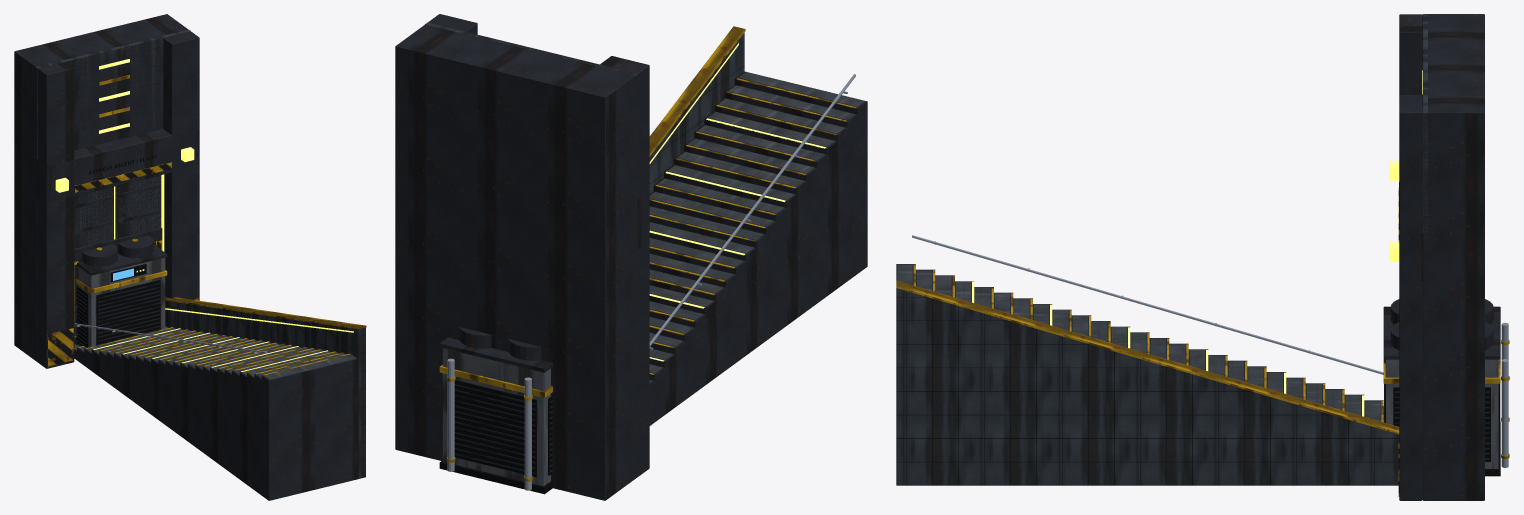
Rendered from end2-floor2-kit.glb.
3 views of the same model, side by side, from view 1: azimuth 30°, elevation 25°; view 2: azimuth 150°, elevation 25°; view 3: azimuth 270°, elevation 25° (orthographic). The views are drawn at different scales.
Visible parts, largest first — view 1: p_shaft__b_gun, p_stairs__b_gun, p_stairs__b_wall, p_stairs__b_raised, p_cooler__b_gun, p_stairs__b_yellow, p_cooler__b_dark, p_shaft__b_wall, p_cooler__b_steel, p_shaft__b_hazard, p_shaft__b_steel, p_stairs__b_glow_y (+5 smaller); view 2: p_shaft__b_gun, p_stairs__b_gun, p_stairs__b_raised, p_cooler__b_dark, p_stairs__b_yellow, p_cooler__b_gun, p_cooler__b_steel, p_stairs__b_wall, p_cooler__b_trim, p_stairs__b_glow_y, p_stairs__b_trim, p_cooler__b_yellow (+1 smaller); view 3: p_stairs__b_wall, p_shaft__b_gun, p_stairs__b_raised, p_stairs__b_yellow, p_cooler__b_gun, p_stairs__b_gun, p_cooler__b_steel, p_stairs__b_trim, p_shaft__b_wall, p_cooler__b_trim, p_cooler__b_dark.
Part boxes in pixels (left/top/right/bottom): p_shaft__b_gun: left=14, top=14, right=199, bottom=368; p_stairs__b_gun: left=74, top=326, right=358, bottom=500; p_stairs__b_wall: left=165, top=300, right=365, bottom=478; p_stairs__b_raised: left=74, top=327, right=356, bottom=379; p_cooler__b_gun: left=76, top=235, right=167, bottom=347; p_stairs__b_yellow: left=74, top=297, right=366, bottom=375; p_cooler__b_dark: left=76, top=264, right=160, bottom=347; p_shaft__b_wall: left=35, top=29, right=190, bottom=158; p_cooler__b_steel: left=78, top=257, right=165, bottom=347; p_shaft__b_hazard: left=47, top=162, right=198, bottom=366; p_shaft__b_steel: left=74, top=175, right=160, bottom=329; p_stairs__b_glow_y: left=93, top=308, right=353, bottom=371; p_shaft__b_gun: left=395, top=14, right=649, bottom=500; p_stairs__b_gun: left=649, top=71, right=867, bottom=425; p_stairs__b_raised: left=649, top=72, right=865, bottom=382; p_cooler__b_dark: left=439, top=380, right=552, bottom=494; p_stairs__b_yellow: left=649, top=26, right=856, bottom=374; p_cooler__b_gun: left=439, top=327, right=552, bottom=474; p_cooler__b_steel: left=442, top=348, right=550, bottom=486; p_stairs__b_wall: left=649, top=32, right=744, bottom=193; p_cooler__b_trim: left=447, top=358, right=531, bottom=490; p_stairs__b_glow_y: left=649, top=43, right=826, bottom=361; p_stairs__b_trim: left=649, top=74, right=855, bottom=349; p_cooler__b_yellow: left=439, top=365, right=552, bottom=481; p_stairs__b_wall: left=896, top=288, right=1399, bottom=485; p_shaft__b_gun: left=1399, top=14, right=1484, bottom=500; p_stairs__b_raised: left=897, top=264, right=1380, bottom=421; p_stairs__b_yellow: left=896, top=264, right=1399, bottom=434; p_cooler__b_gun: left=1383, top=299, right=1500, bottom=459; p_stairs__b_gun: left=896, top=264, right=1383, bottom=421; p_cooler__b_steel: left=1385, top=359, right=1498, bottom=468; p_stairs__b_trim: left=912, top=235, right=1383, bottom=374; p_shaft__b_wall: left=1422, top=14, right=1428, bottom=232; p_cooler__b_trim: left=1501, top=322, right=1508, bottom=467; p_cooler__b_dark: left=1384, top=359, right=1500, bottom=476.
Bounding box in the file's own units: 6 × 11.14 × 15.73.
17 materials, 9 textured.
